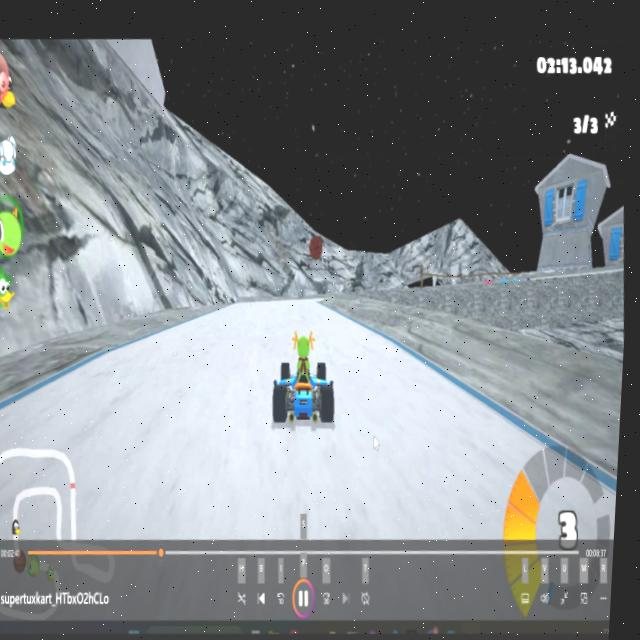off_track: (416, 273, 624, 370)
player_kart: (272, 326, 344, 426)
track: (174, 335, 268, 473), (236, 292, 338, 328)
